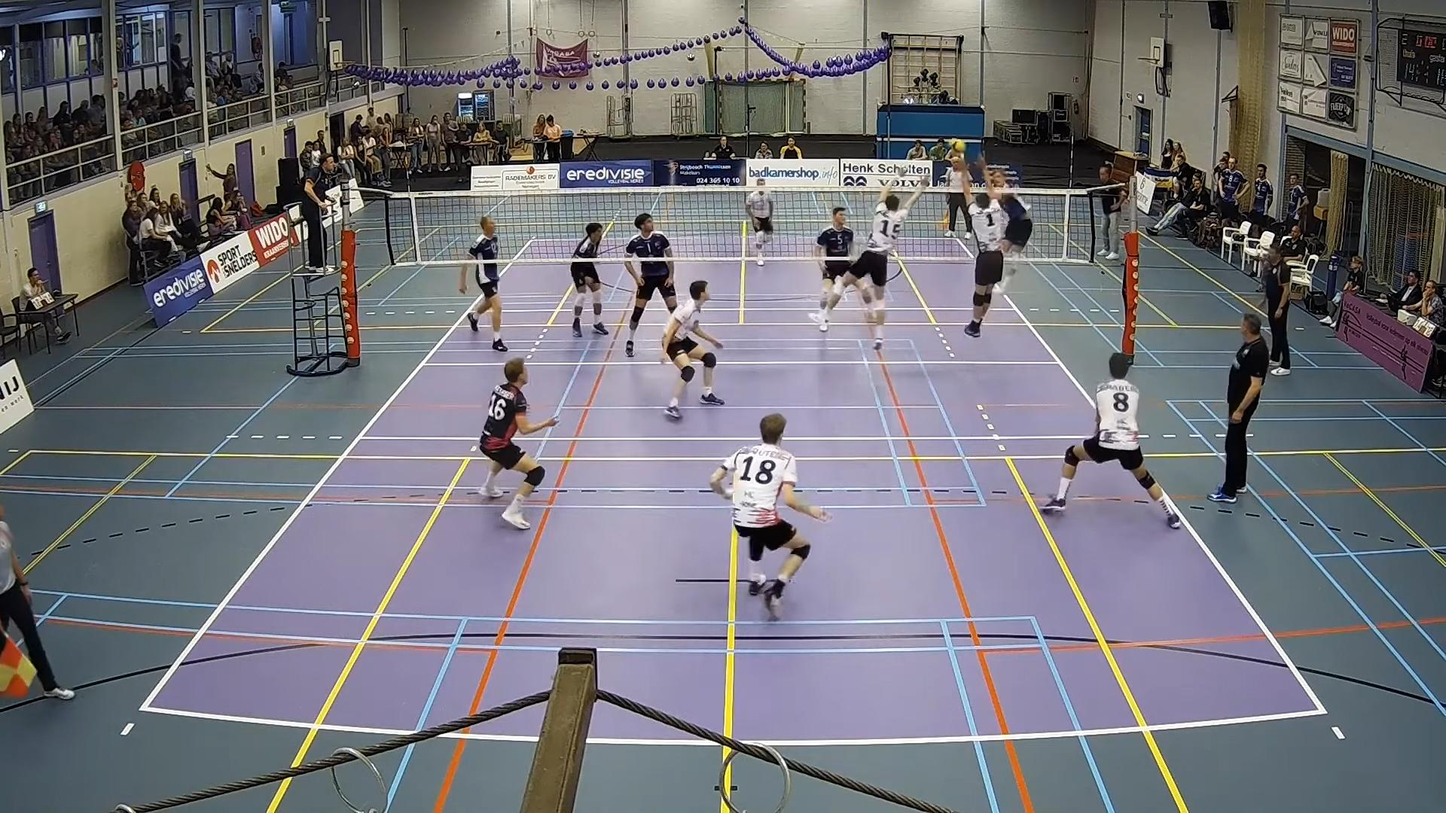Attack: (983, 158, 1039, 305)
Block: (828, 176, 929, 327), (958, 169, 1035, 342)
Player: (1041, 353, 1181, 528), (710, 413, 828, 619), (479, 358, 557, 529), (662, 280, 723, 419), (624, 214, 676, 357), (466, 216, 507, 352), (570, 222, 608, 336), (814, 207, 853, 311), (746, 178, 773, 264)
ball: (949, 139, 969, 152)
